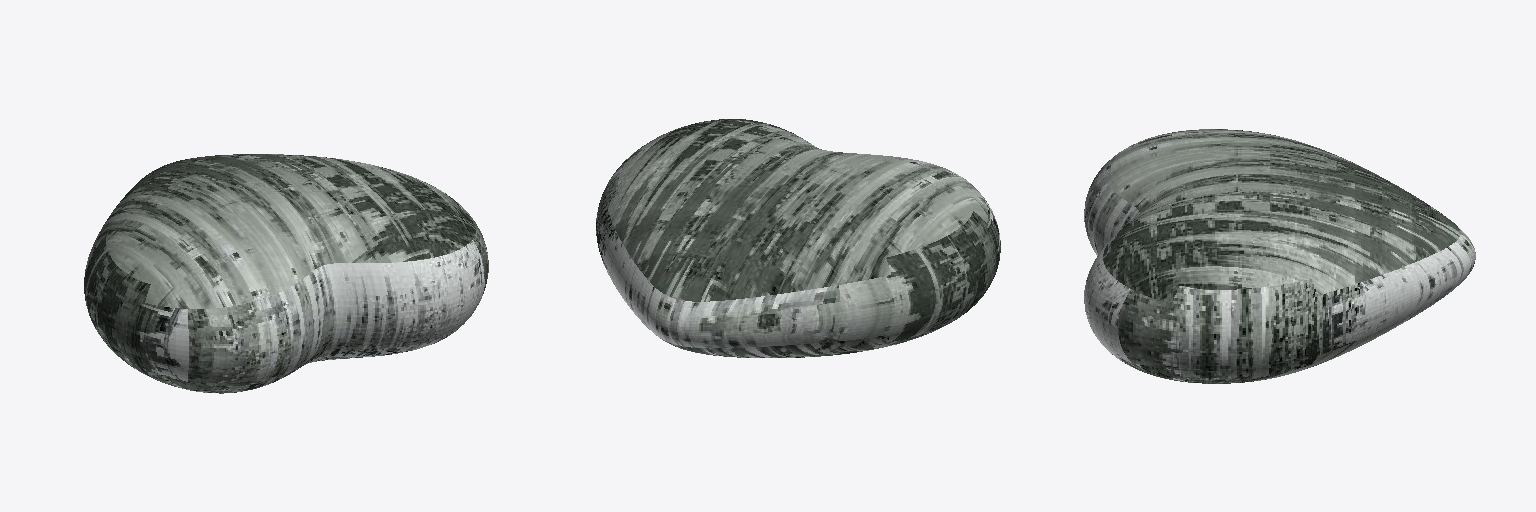
3 views of the same model, side by side, from view 1: azimuth 30°, elevation 25°; view 2: azimuth 150°, elevation 25°; view 3: azimuth 270°, elevation 25° (orthographic).
Parts seen in each view (by area): view 1: Heart; view 2: Heart; view 3: Heart.
Boxes of the visible parts, box(x1,y1,x2,y2) form: Heart: box(84, 154, 488, 393); Heart: box(596, 119, 1000, 357); Heart: box(1084, 129, 1475, 383).
Size of the model in its own units: 21.25 by 9.14 by 19.91.
Materials: 1 (1 with a texture image).